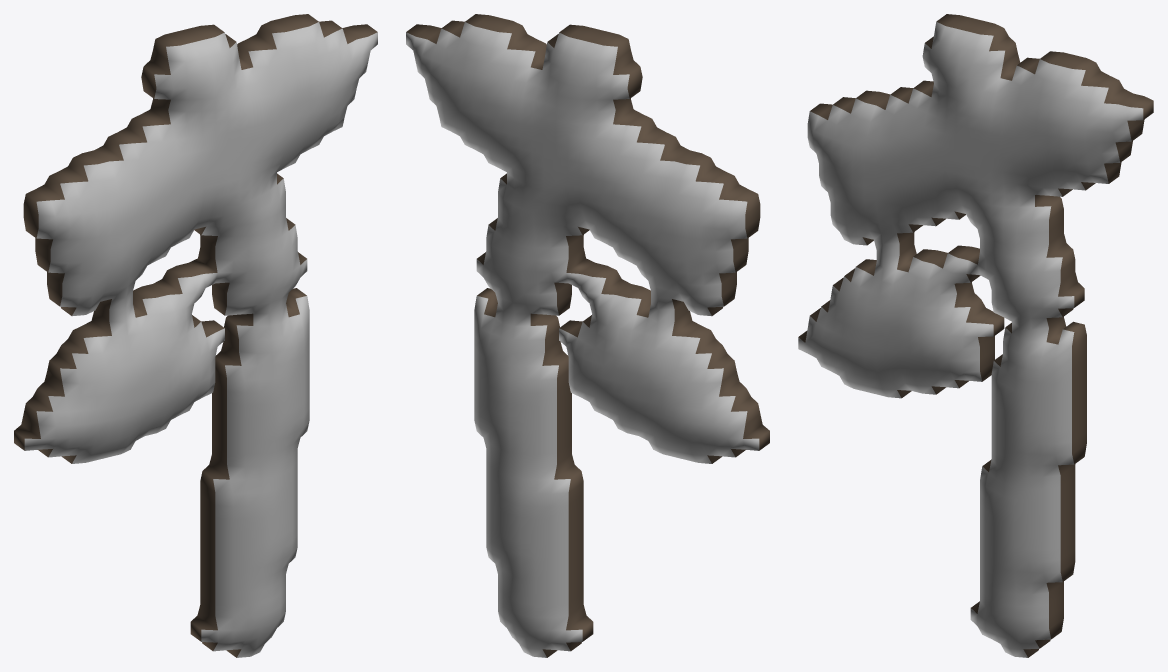
Rendered from signpost_broken.glb.
The picture shows the model from 3 angles, left to right: view 1: azimuth 30°, elevation 25°; view 2: azimuth 150°, elevation 25°; view 3: azimuth 330°, elevation 25°; orthographic projection. The views are drawn at different scales.
Parts seen in each view (by area): view 1: signpost_broken; view 2: signpost_broken; view 3: signpost_broken.
Boxes of the visible parts, x1,y1,x2,y2 form: signpost_broken: (14, 14, 377, 657); signpost_broken: (406, 14, 769, 657); signpost_broken: (798, 14, 1153, 657).
Size of the model in its own units: 0.6923 by 1.18 by 0.1393.
